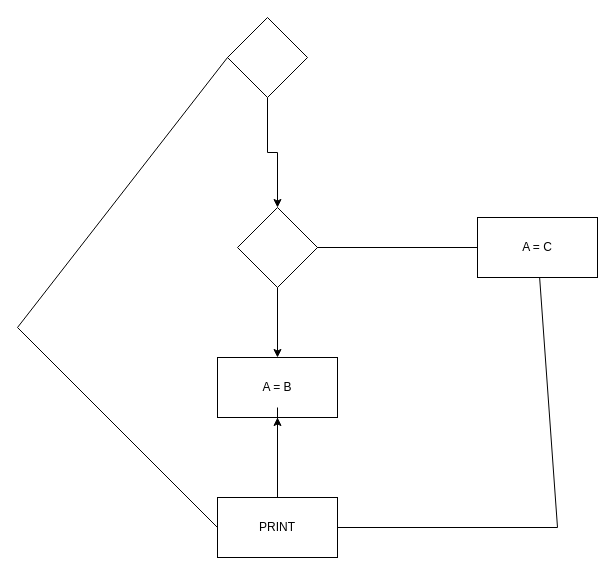
The diagram is 615 pixels wide and 575 high, and some of its shapes have lost their labels. Each missing label, with the centre of its shape:
A = 354: the point at 267,57
B > C: the point at 277,247
